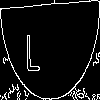L: (25, 24, 40, 72)
